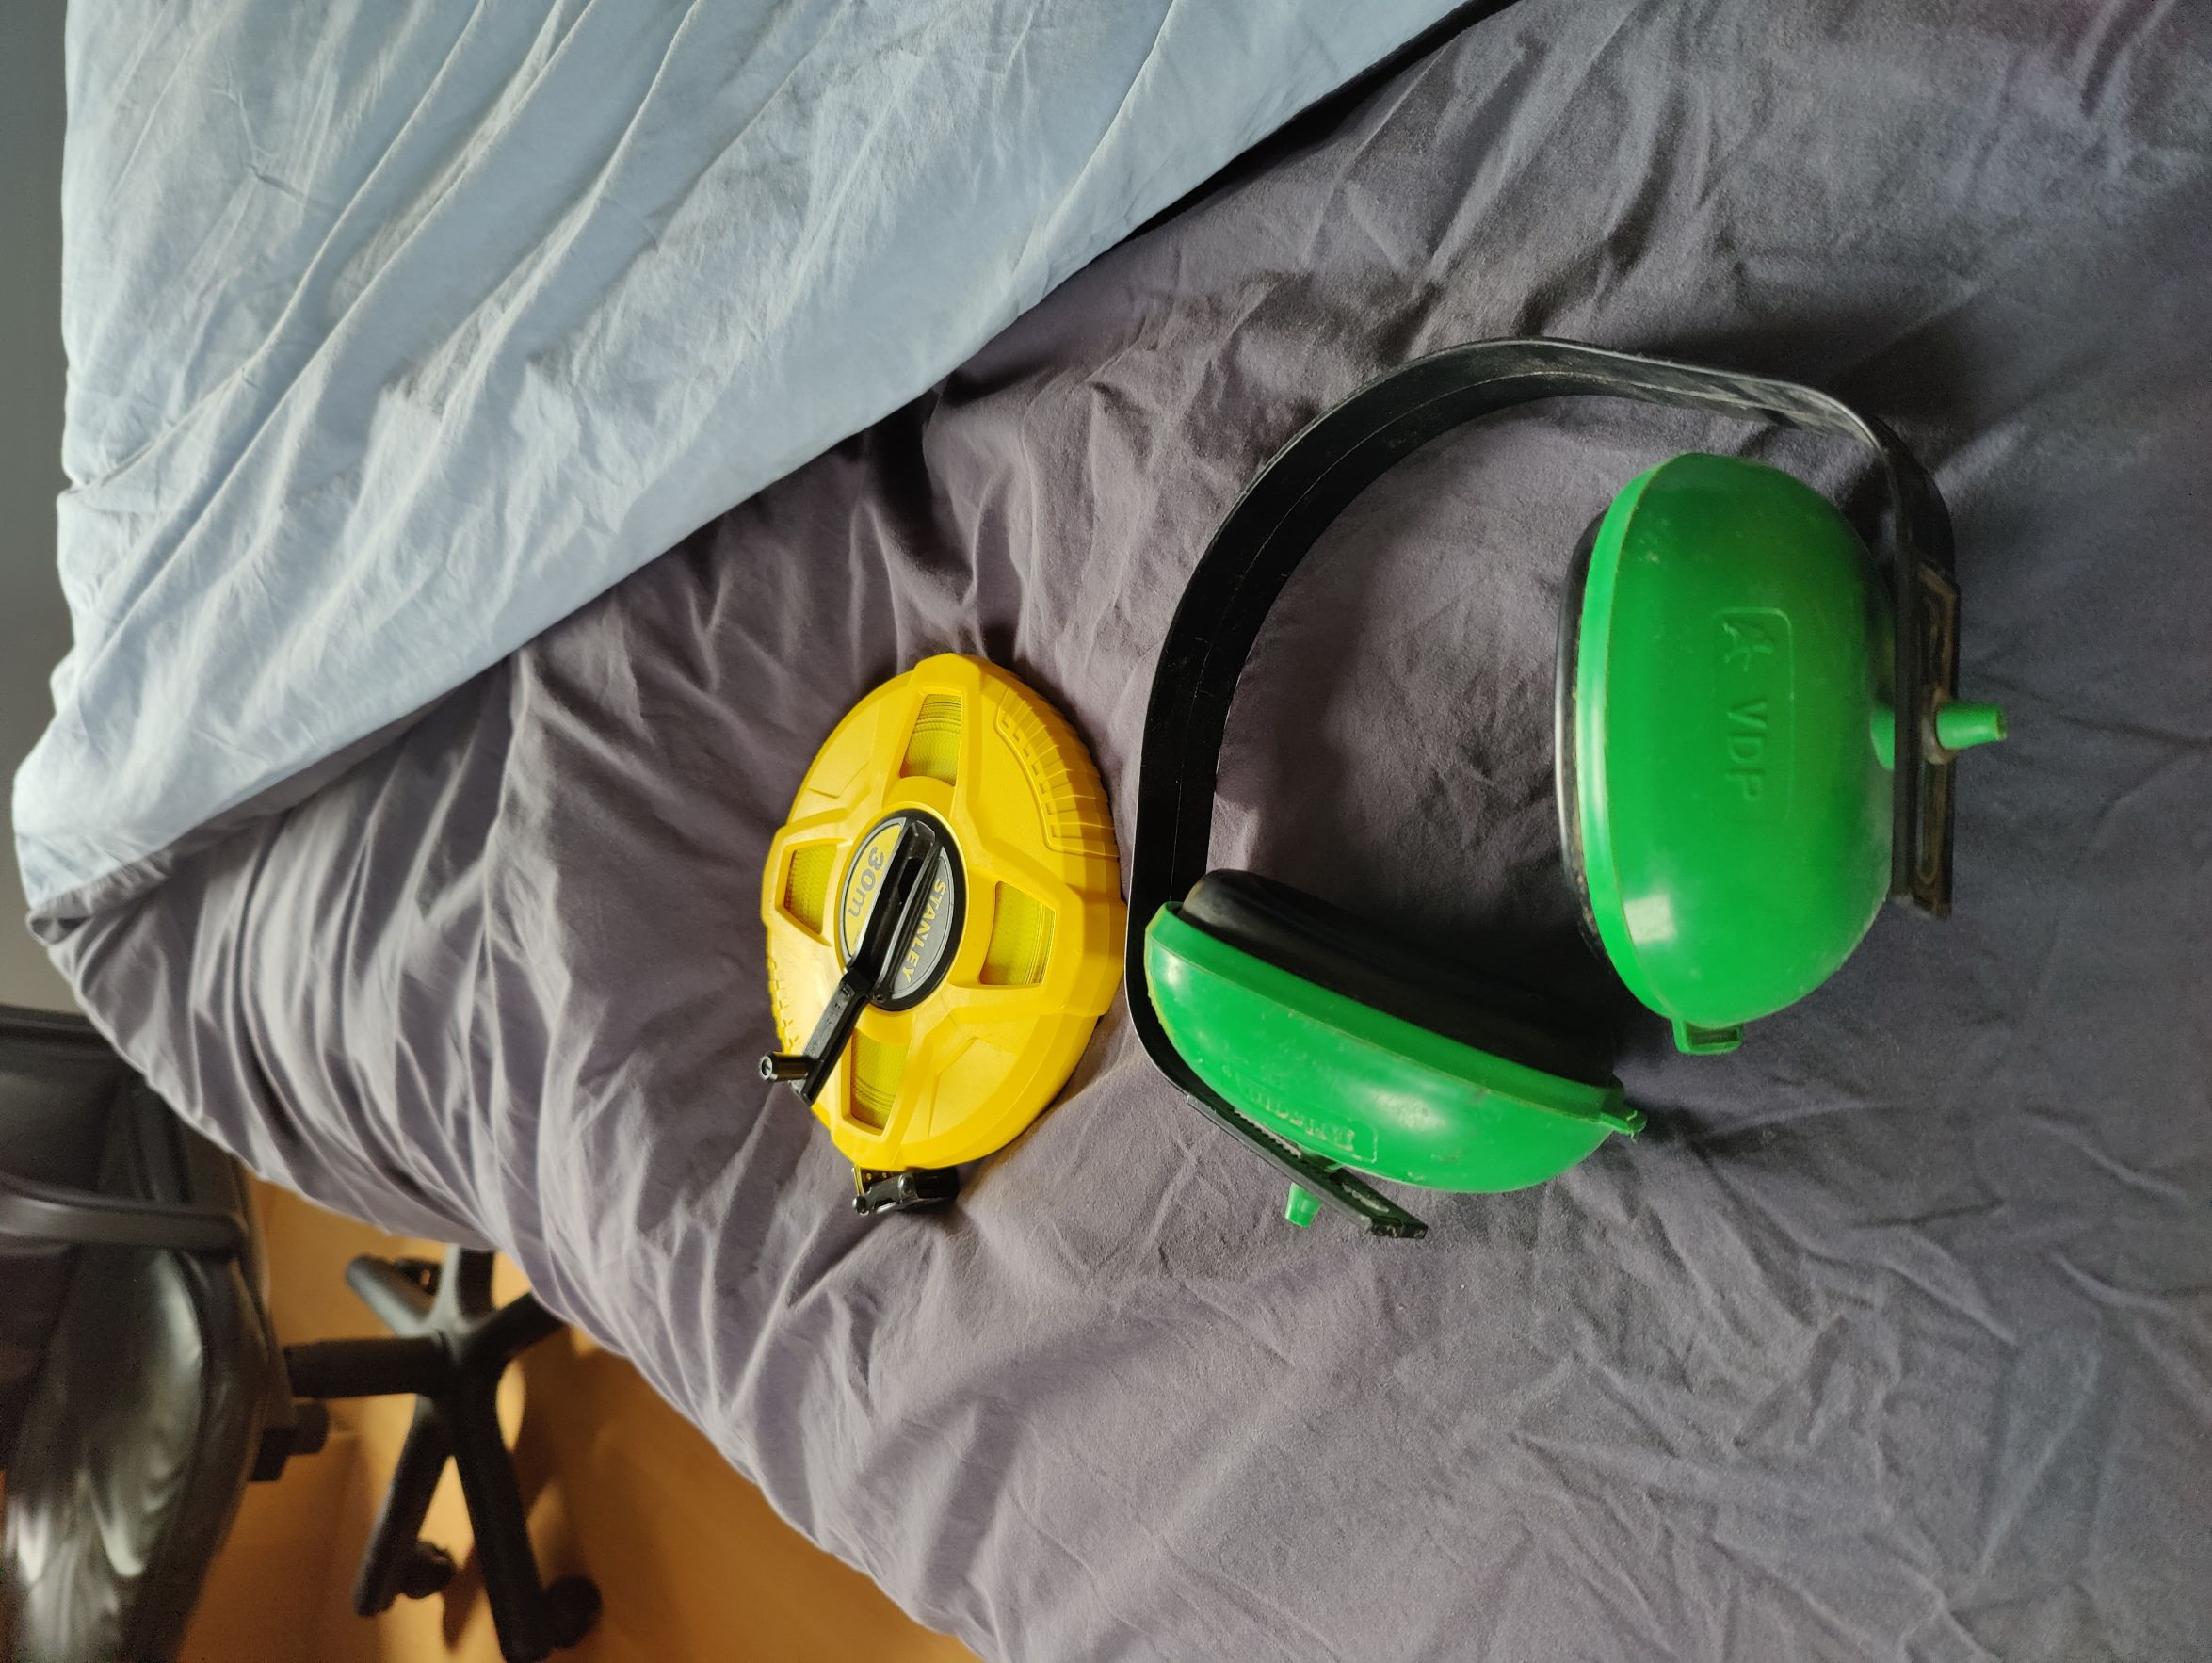headphones: (1136, 332, 2006, 1232)
tapemeasure: (758, 648, 1127, 1226)
